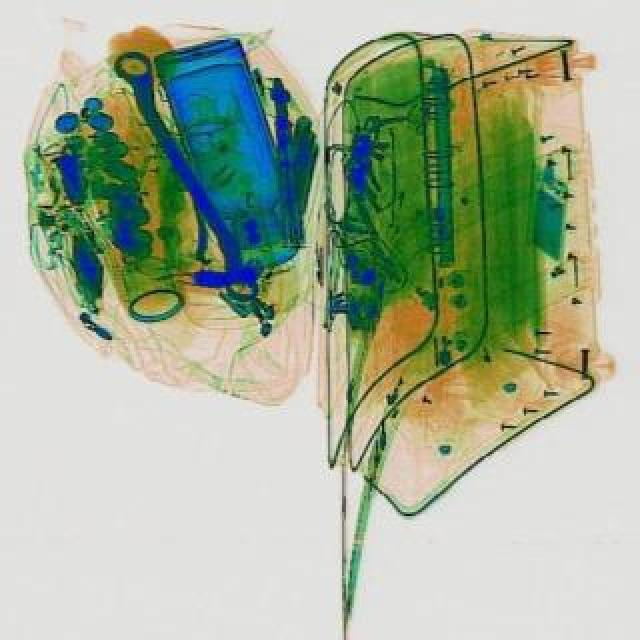scissors: (106, 48, 268, 310)
